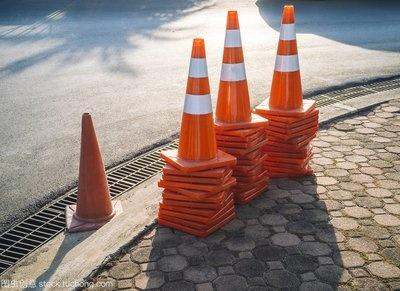cone_barrel: (168, 38, 221, 167), (66, 110, 117, 227), (262, 4, 308, 117), (211, 11, 254, 127)
